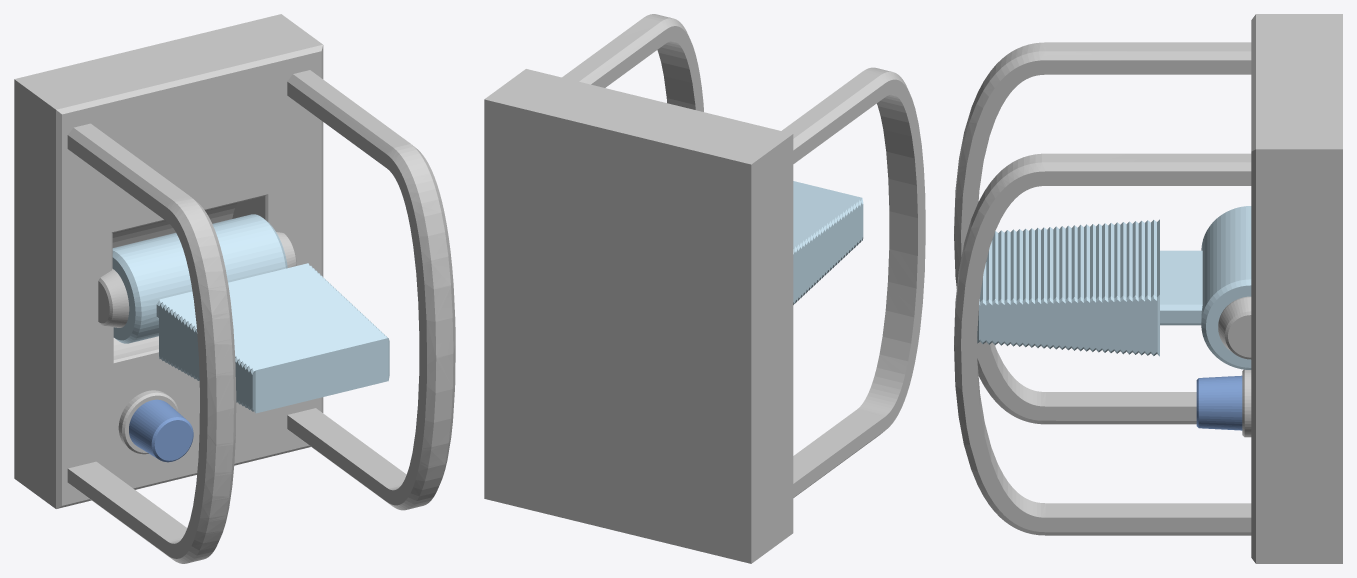
The model's file is toggle_switch.glb.
3 views of the same model, side by side, from view 1: azimuth 30°, elevation 25°; view 2: azimuth 150°, elevation 25°; view 3: azimuth 270°, elevation 25° (orthographic). The views are drawn at different scales.
Visible parts, largest first — view 1: Housing, Switch, IndicatorLight; view 2: Housing, Switch; view 3: Housing, Switch, IndicatorLight.
Boxes of the visible parts, x1=… form: Housing: x1=14, y1=14, x2=455, y2=563; Switch: x1=112, y1=214, x2=389, y2=413; IndicatorLight: x1=129, y1=399, x2=193, y2=462; Housing: x1=484, y1=14, x2=925, y2=563; Switch: x1=793, y1=181, x2=863, y2=304; Housing: x1=954, y1=14, x2=1342, y2=563; Switch: x1=977, y1=206, x2=1251, y2=369; IndicatorLight: x1=1196, y1=375, x2=1242, y2=430.
Bounding box in the file's own units: 0.07 × 0.1 × 0.085.
